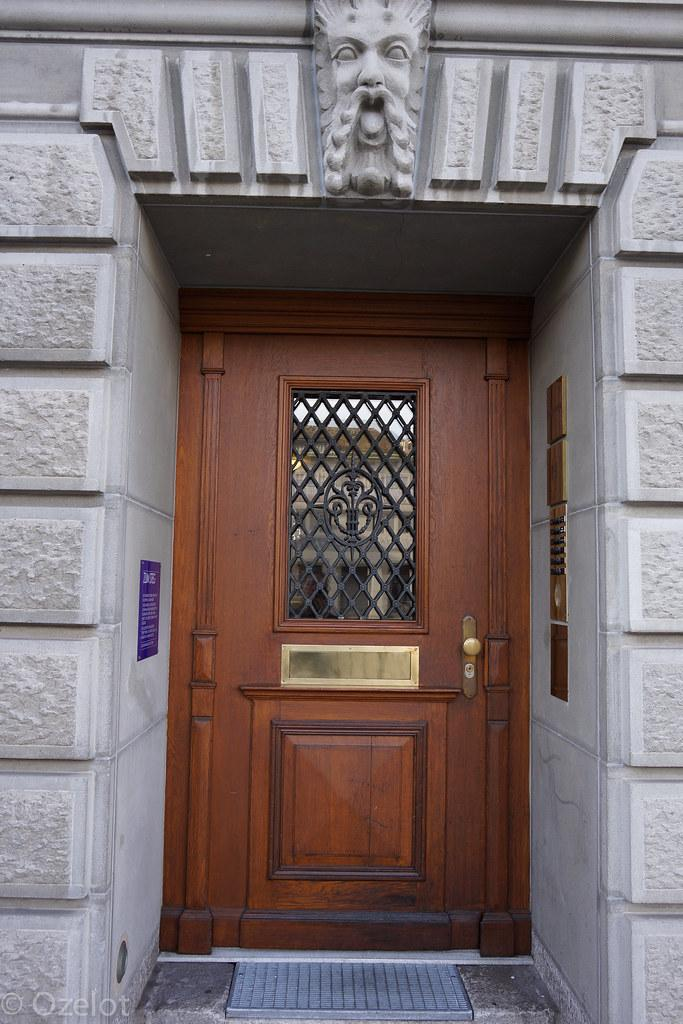door: (165, 298, 532, 955)
